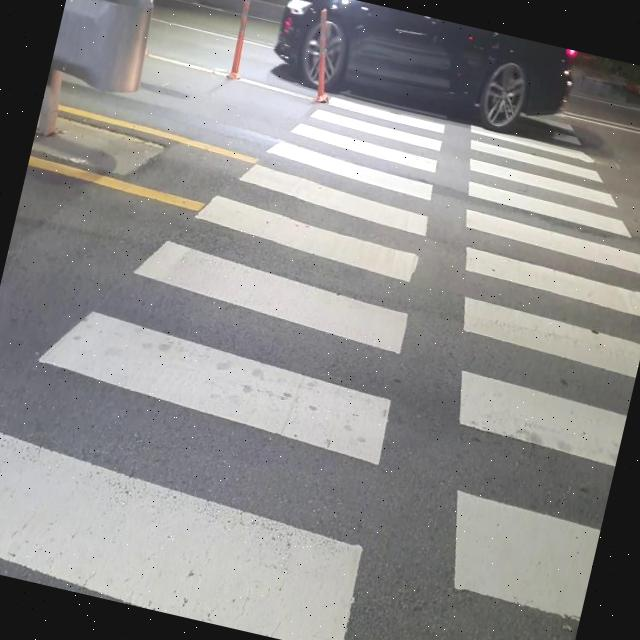crosswalk: (0, 89, 640, 640)
